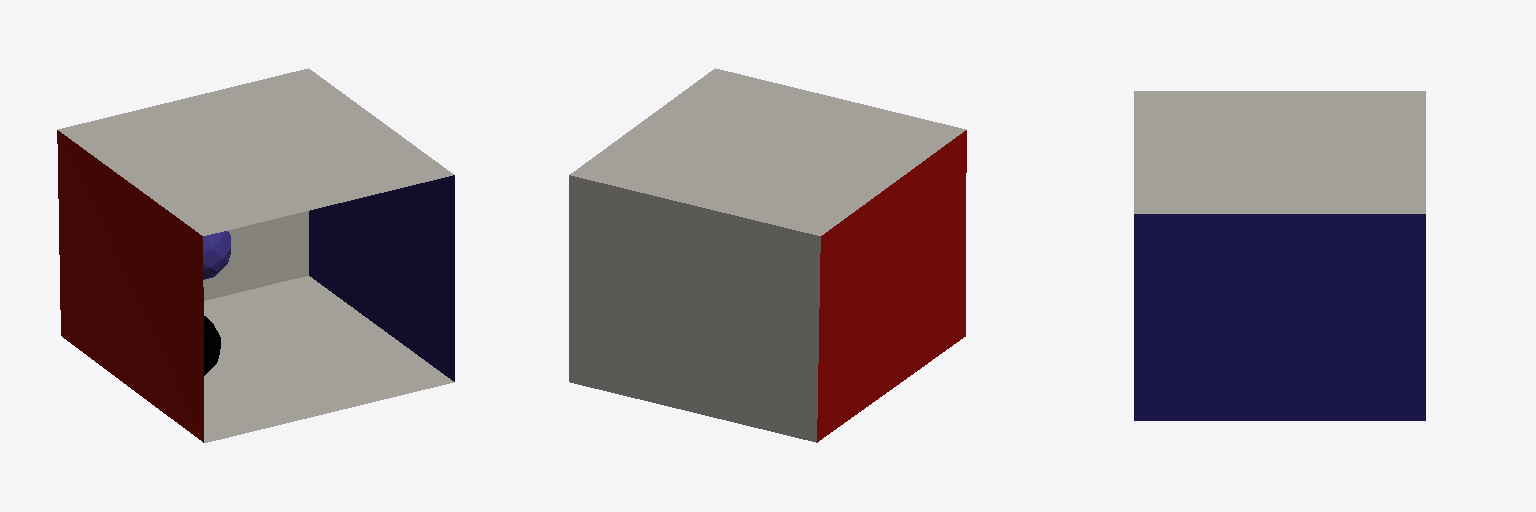
File: CornellBox-Sphere-742.obj
3 views of the same model, side by side, from view 1: azimuth 30°, elevation 25°; view 2: azimuth 150°, elevation 25°; view 3: azimuth 270°, elevation 25° (orthographic).
Parts seen in each view (by area): view 1: ceiling, leftWall, floor, rightWall, backWall, leftSphere, rightSphere; view 2: backWall, ceiling, leftWall; view 3: rightWall, ceiling.
Part boxes in pixels (x1,y1,x2,y2): ceiling: (58, 68, 453, 235); leftWall: (57, 130, 203, 442); floor: (204, 276, 453, 442); rightWall: (309, 175, 454, 381); backWall: (203, 211, 308, 300); leftSphere: (203, 231, 230, 279); rightSphere: (204, 316, 220, 375); backWall: (569, 175, 820, 442); ceiling: (570, 68, 965, 235); leftWall: (817, 130, 966, 442); rightWall: (1134, 214, 1425, 420); ceiling: (1134, 91, 1425, 213).
Bounding box in the file's own units: 2.02 × 1.59 × 2.03.